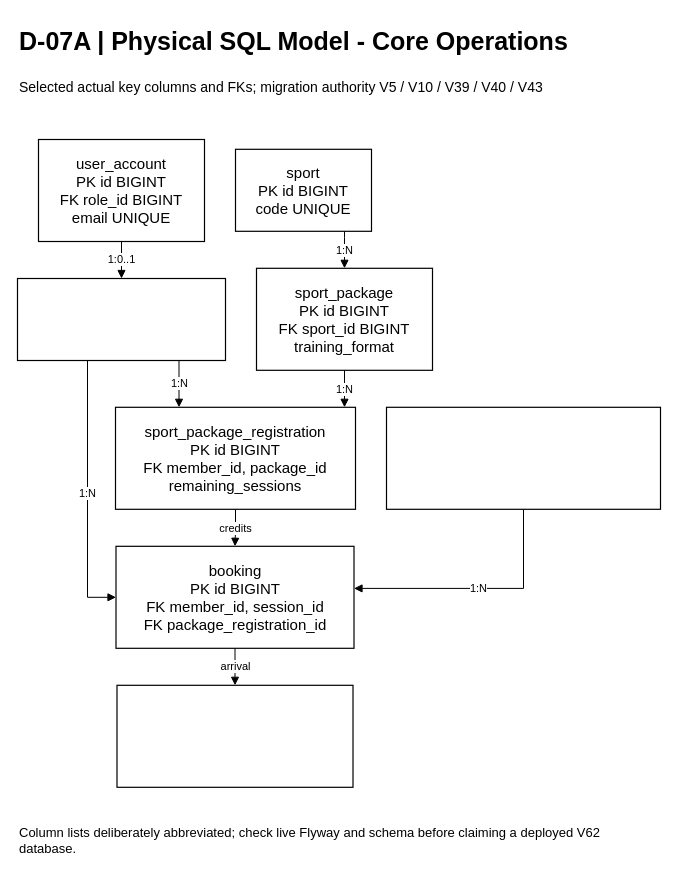
Some shapes in this 679 by 881 pixel diagram are drawn without their labels. The shapes that lost their labels are listed below. From the top down, each one's centre as x and y in pixels, then its label:
At (121,319): "member_profile PK/FK user_id BIGINT member_code UNIQUE".
At (523,457): "class_session PK id BIGINT FK class_id, facility_id, coach_id public Session ID".
At (234,735): "check_in PK id BIGINT FK member_id, booking_id result ALLOWED / DENIED".
